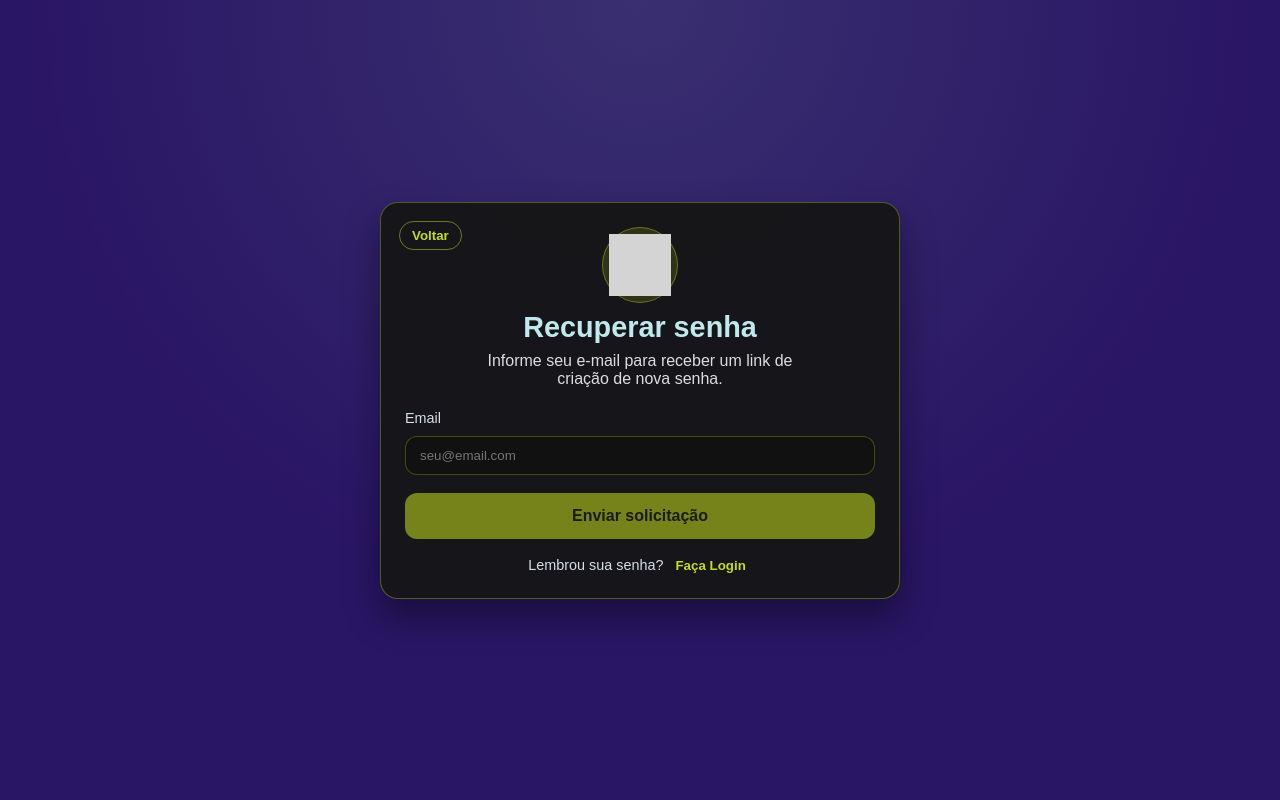
ForgotPasswordScreen › shows business recovery errors inline
Type "user01@teste.com" into the field labelled "Email" at point(640, 455), box [405,436,875,474]
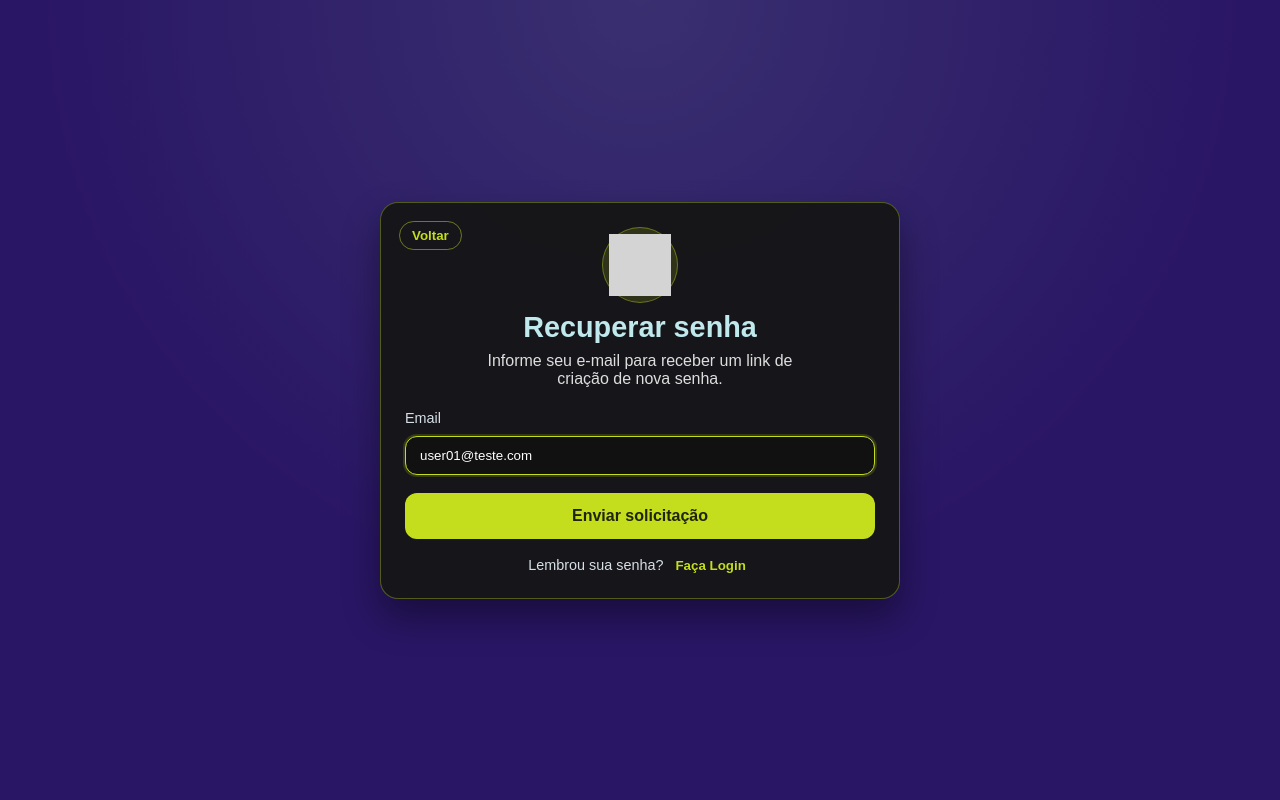
Click the button "Enviar solicitação" at point(640, 516), box [405,492,875,538]
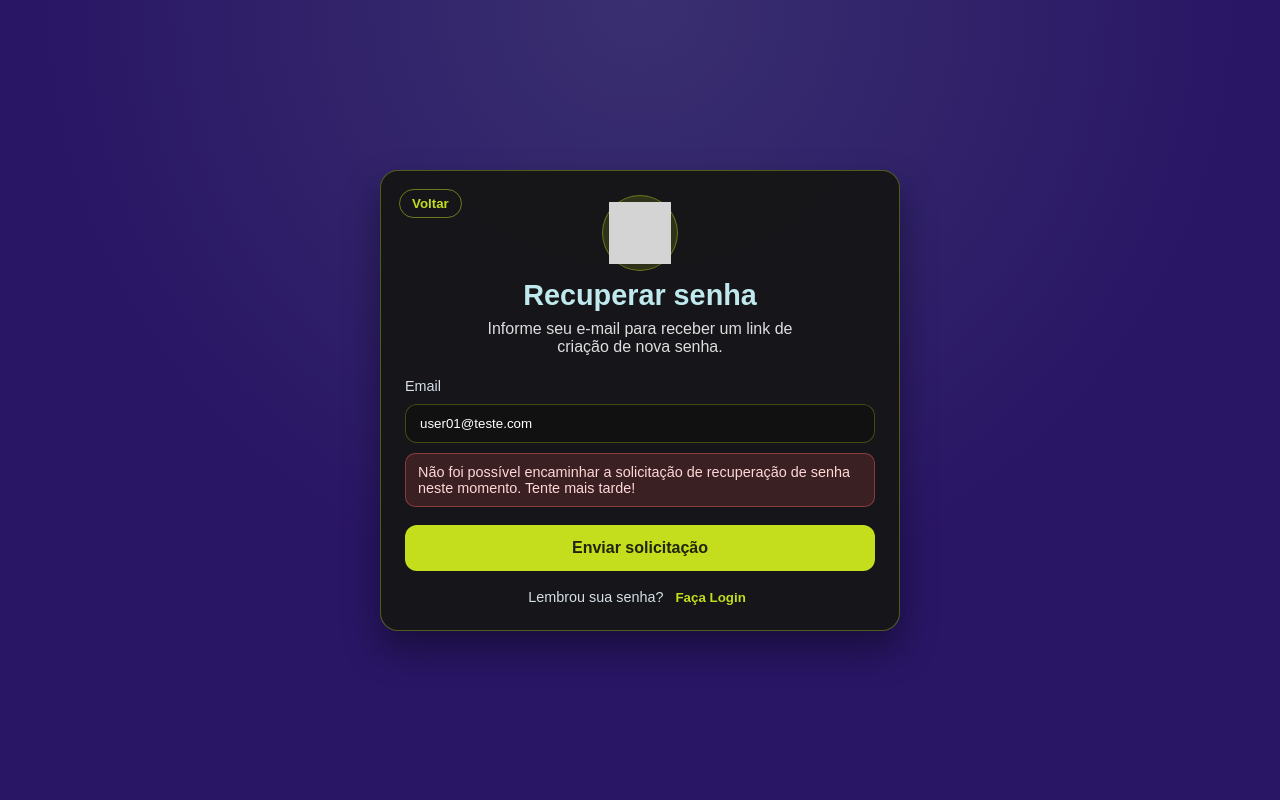
Now the text "Não foi possível encaminhar a solicitação" is shown, box [418,464,850,496]
